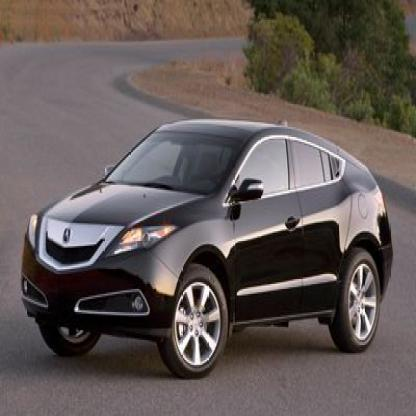Vehicle: (20, 122, 396, 383)
